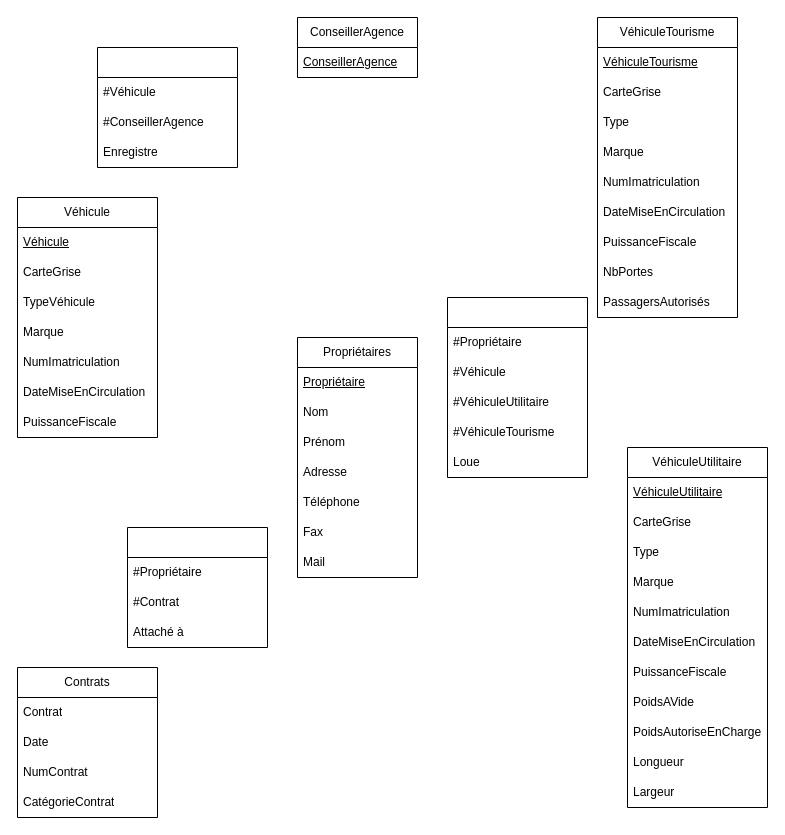
This 785x835 diagram has some shape labels left out. Here are the shapes that lost their labels. From the top down, the box of each, then its label:
(96, 46, 238, 168): List
(446, 296, 588, 478): Lien VéhiculeT-U-Proprio
(126, 526, 268, 648): LienContratsPropriétaires
